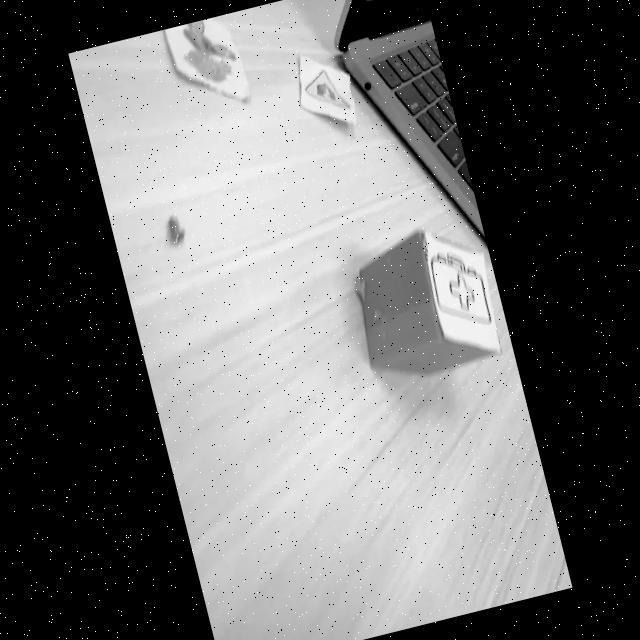Medkit: (429, 245, 493, 325)
